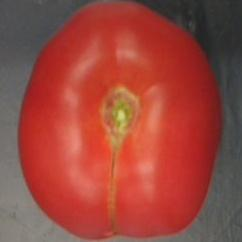unripe: (17, 1, 222, 242)
